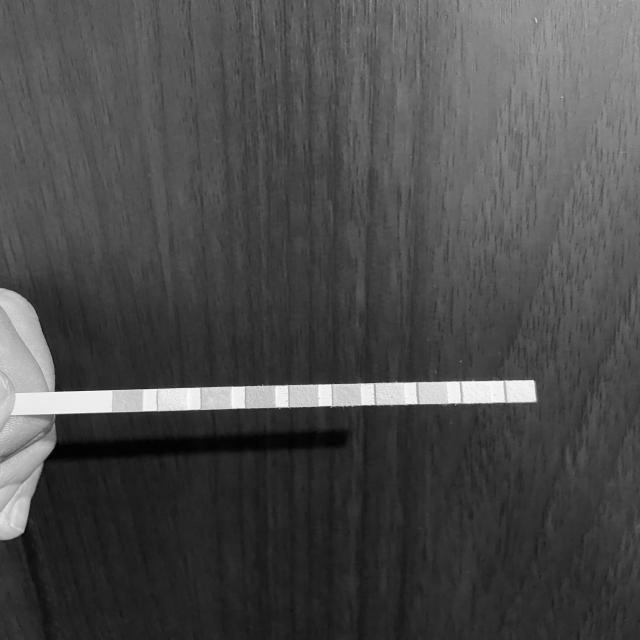Bilirubin: (158, 390, 186, 410)
Blood: (289, 385, 318, 406)
Glucose: (114, 390, 142, 411)
Ketone: (202, 387, 231, 408)
Leukocytes: (505, 381, 534, 401)
Nitrite: (463, 382, 491, 403)
Protein: (375, 384, 404, 404)
SpGravity: (247, 387, 275, 408)
Urobilinogen: (418, 383, 447, 403)
background: (0, 0, 640, 640)
pH: (332, 385, 360, 405)
strip: (11, 380, 536, 415)
